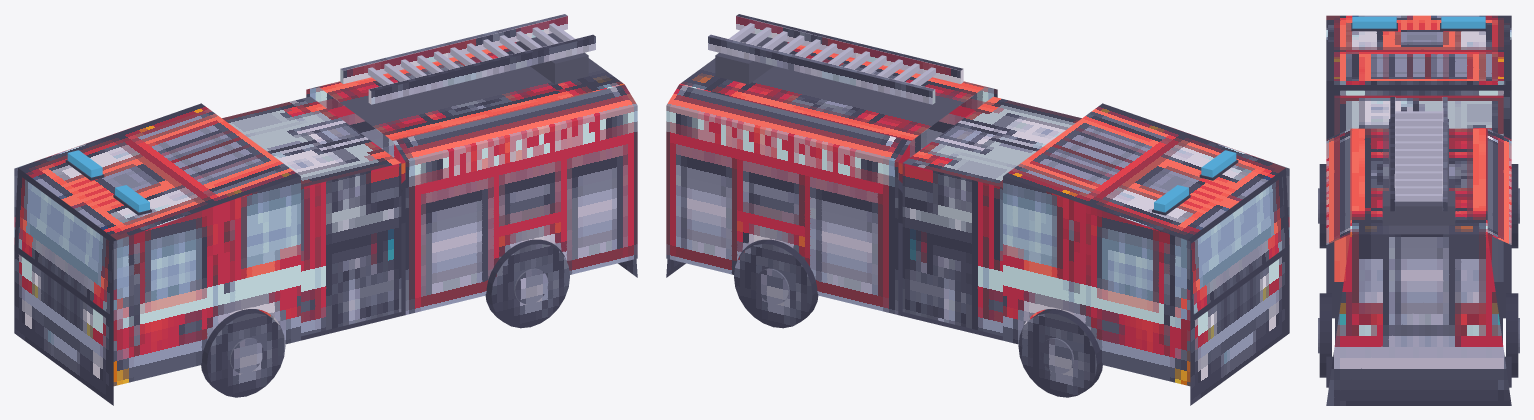
The model's file is fire-truck-ladder-1-v2.glb.
3 views of the same model, side by side, from view 1: azimuth 30°, elevation 25°; view 2: azimuth 150°, elevation 25°; view 3: azimuth 270°, elevation 25° (orthographic). The views are drawn at different scales.
Parts seen in each view (by area): view 1: Compartments-west, Cab-west, Cab-roof, Pump-platform-2, Compartment-roof, Front-fascia, Pump-platform-0, Windshield-glass, Roof-shoulder-west, Tire_FL, Tire_RL, Ladder-rail--1-2 (+11 smaller); view 2: Compartments-east, Cab-east, Cab-roof, Pump-platform-3, Compartment-roof, Front-fascia, Pump-platform-0, Windshield-glass, Roof-shoulder-east, Tire_FR, Tire_RR, Ladder-rail-1-3 (+11 smaller); view 3: Rear-equipment, Cab-roof, Compartment-roof, Pump-platform-0, Ladder-rungs, Roof-shoulder-east, Roof-shoulder-west, Underfloor, Ladder-mount, Front-fascia, Pump-platform-5, Windshield-frame (+11 smaller).
Boxes of the visible parts, box(x1,y1,x2,y2) form: Compartments-west: box(405, 106, 637, 314); Cab-west: box(113, 176, 300, 386); Cab-roof: box(18, 103, 300, 239); Pump-platform-2: box(301, 163, 401, 336); Compartment-roof: box(319, 42, 624, 140); Front-fascia: box(14, 251, 113, 405); Pump-platform-0: box(222, 96, 400, 187); Windshield-glass: box(18, 176, 113, 314); Roof-shoulder-west: box(393, 84, 637, 161); Tire_FL: box(201, 309, 285, 397); Tire_RL: box(485, 239, 569, 328); Ladder-rail--1-2: box(371, 36, 595, 104); Compartments-east: box(666, 106, 898, 314); Cab-east: box(1003, 176, 1190, 386); Cab-roof: box(1003, 103, 1285, 239); Pump-platform-3: box(902, 163, 1002, 336); Compartment-roof: box(679, 42, 984, 140); Front-fascia: box(1190, 251, 1289, 405); Pump-platform-0: box(903, 96, 1081, 187); Windshield-glass: box(1190, 176, 1285, 314); Roof-shoulder-east: box(666, 84, 910, 161); Tire_FR: box(1018, 309, 1102, 397); Tire_RR: box(734, 239, 818, 328); Ladder-rail-1-3: box(708, 36, 932, 104); Rear-equipment: box(1326, 234, 1511, 405); Cab-roof: box(1326, 15, 1511, 80); Compartment-roof: box(1350, 128, 1487, 234); Pump-platform-0: box(1334, 95, 1503, 135); Ladder-rungs: box(1395, 111, 1442, 201); Roof-shoulder-east: box(1487, 129, 1511, 244); Roof-shoulder-west: box(1326, 129, 1350, 244); Underfloor: box(1326, 242, 1511, 387); Ladder-mount: box(1382, 191, 1455, 225); Front-fascia: box(1326, 90, 1511, 139); Pump-platform-5: box(1334, 234, 1503, 281); Windshield-frame: box(1326, 81, 1511, 90).
Size of the model in its own units: 140 by 60.7 by 50.1.
1 material, 1 textured.
